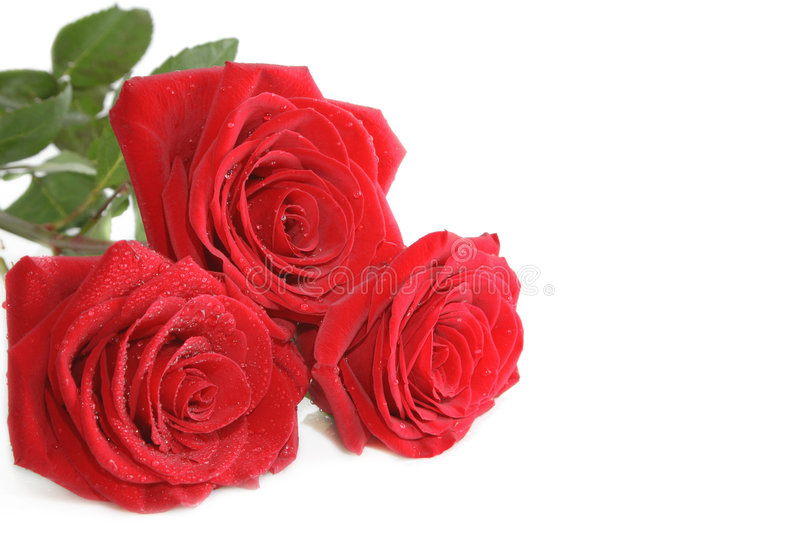RedRose: (0, 257, 281, 498), (124, 70, 399, 288), (309, 198, 537, 444)
